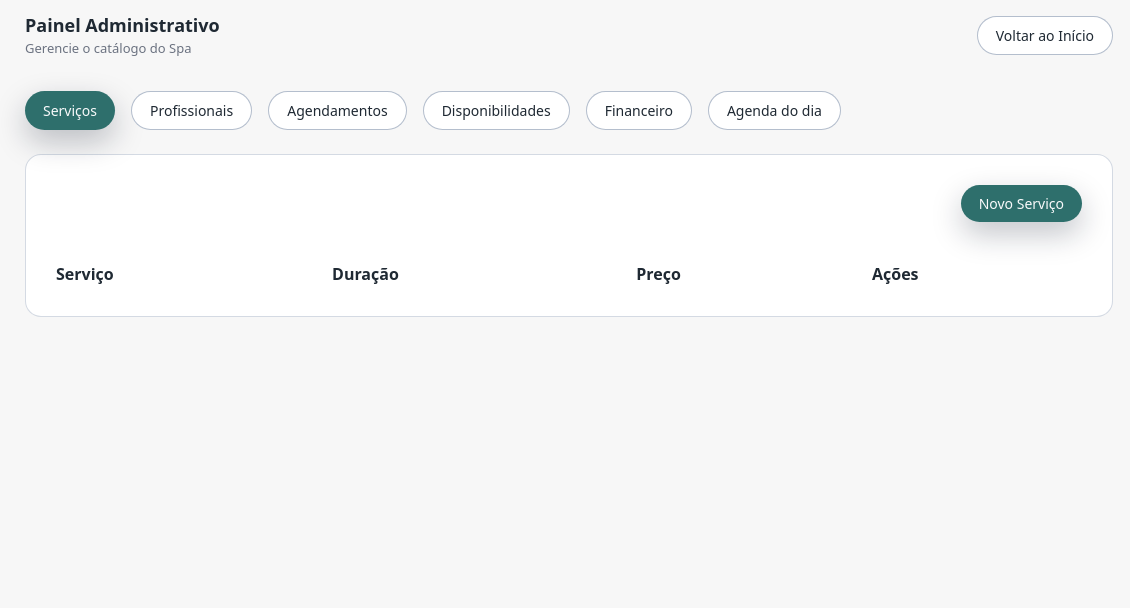
it: blocks_tab_shows_loading › blocks_tab_shows_loading
Click the button "Disponibilidades" at x=496, y=110, box [423, 90, 570, 130]
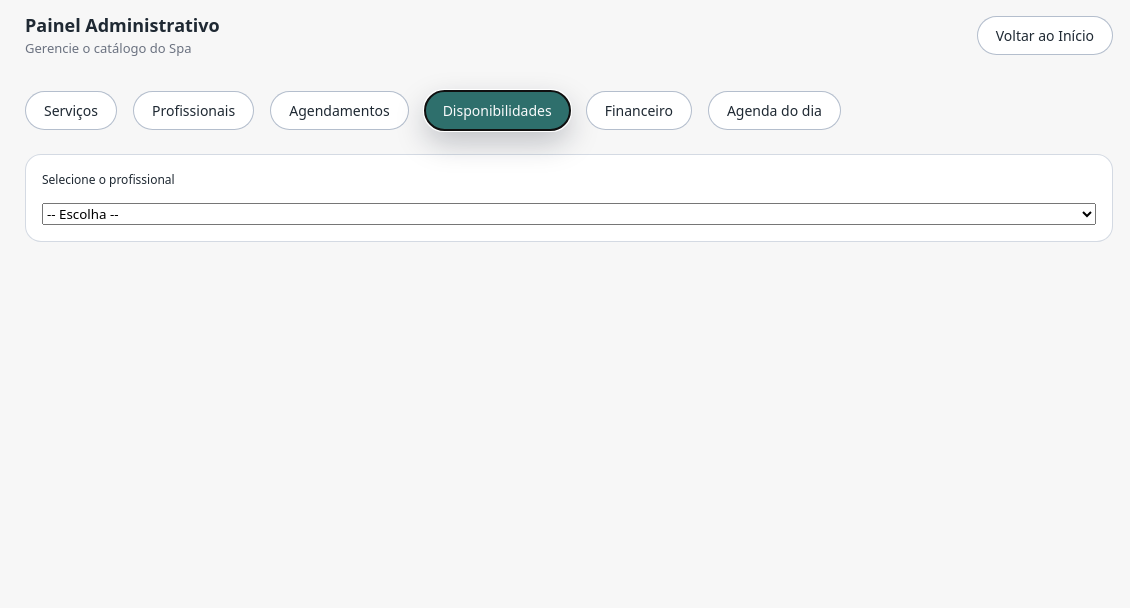
Select "Ana" in the dropdown at x=569, y=214, box [42, 202, 1096, 224]
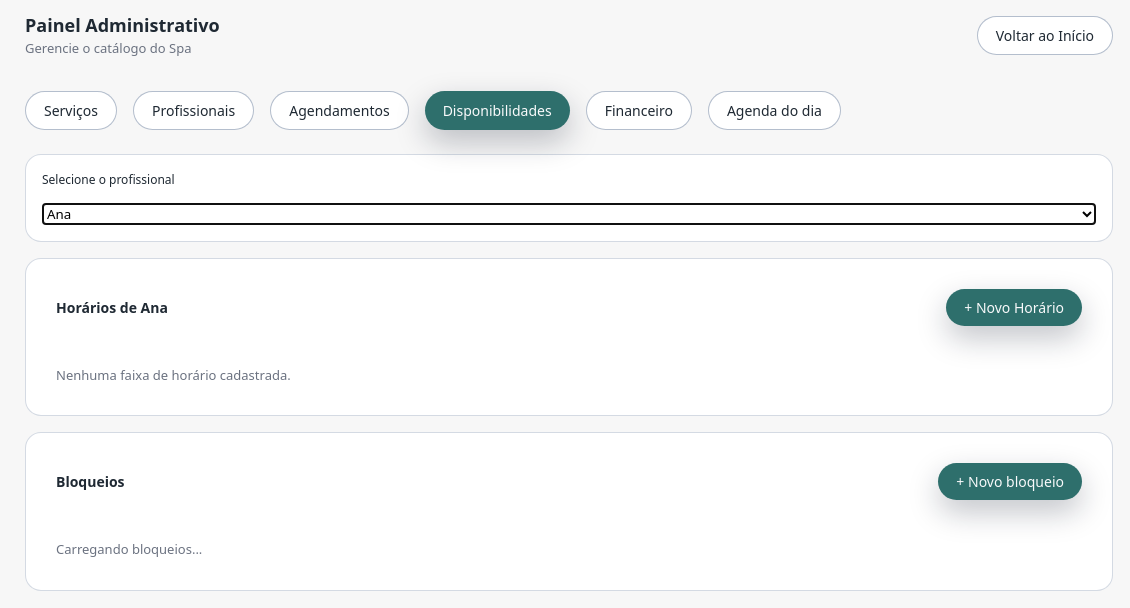
expect the text "Carregando bloqueios..." is shown: met, box [56, 540, 202, 558]
